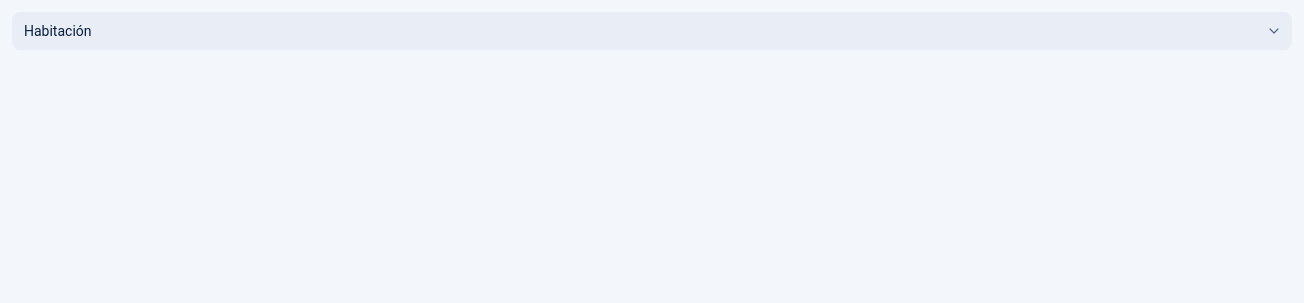
Test case: the search box filters and says when nothing matches
Click the dropdown named "Tipo": click(58, 31) [12,12,1292,50]
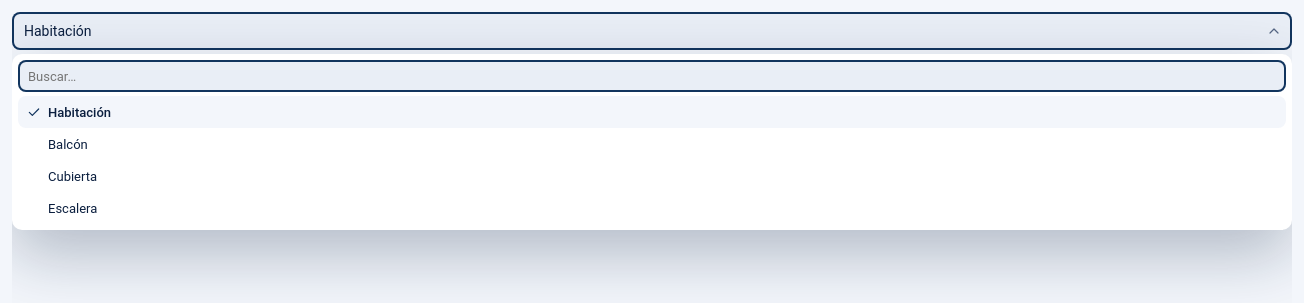
In the search field: (652, 76) [18,60,1286,92], type "esc"
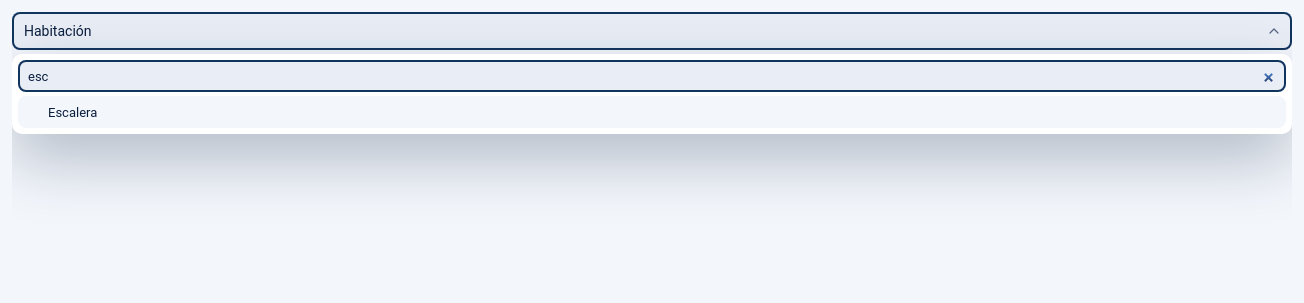
Result: the options read "Escalera", in this order at [18,96,1286,128]
Replace the text in the search field with "zzz": (652, 76) [18,60,1286,92]
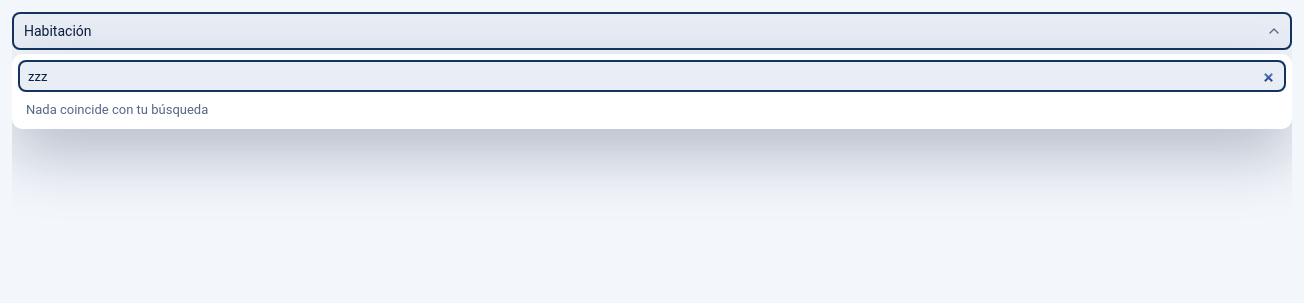
Result: no options are shown
Result: the text "Nada coincide con tu búsqueda" is shown at [26,102,208,117]
